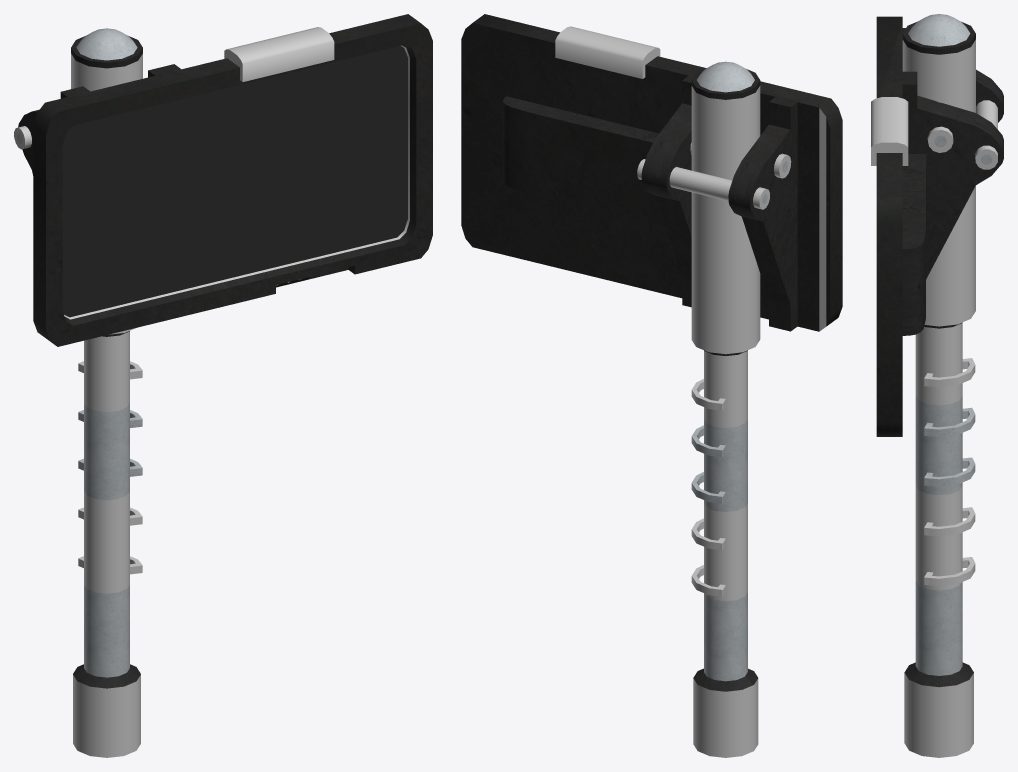
File: Scoreboard.fbx
3 views of the same model, side by side, from view 1: azimuth 30°, elevation 25°; view 2: azimuth 150°, elevation 25°; view 3: azimuth 270°, elevation 25° (orthographic). The views are drawn at different scales.
Parts seen in each view (by area): view 1: Screen, Post, Details; view 2: Screen, Post, Details; view 3: Post, Screen, Details.
Part boxes in pixels (box(x1,y1,x2,y2)): Screen: box(18, 14, 432, 346); Post: box(71, 28, 142, 757); Details: box(14, 126, 309, 574); Screen: box(461, 14, 842, 331); Post: box(691, 61, 760, 757); Details: box(637, 143, 791, 596); Post: box(902, 14, 975, 757); Screen: box(871, 16, 1003, 436); Details: box(924, 100, 997, 586).
Size of the model in its own units: 3.26 by 5.74 by 0.9512.
